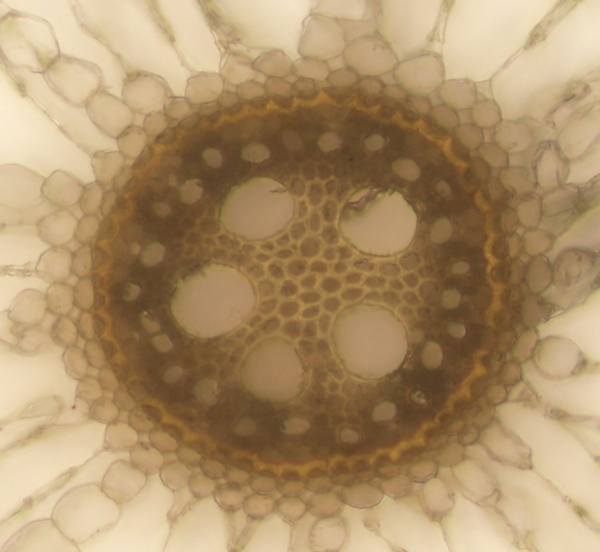lm: (169, 261, 257, 339), (332, 303, 410, 381), (338, 184, 417, 257), (240, 335, 310, 405), (219, 176, 295, 240)
